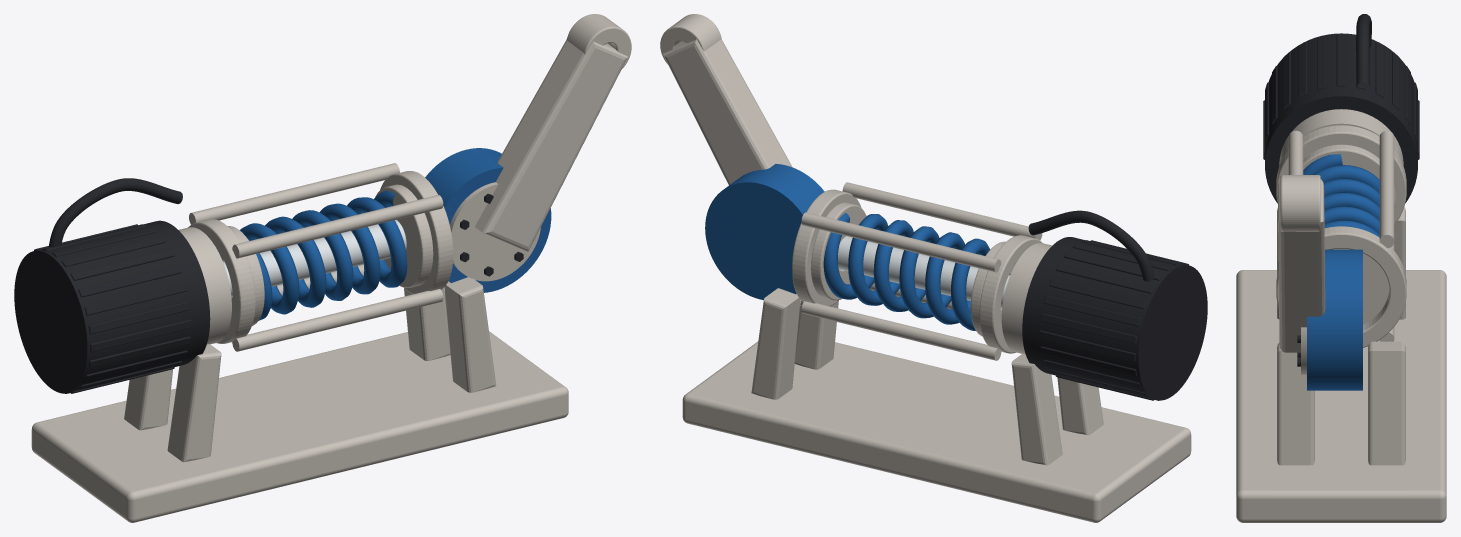
Rendered from anatomy-51.glb.
3 renders of one model, left to right at view 1: azimuth 30°, elevation 25°; view 2: azimuth 150°, elevation 25°; view 3: azimuth 270°, elevation 25°, orthographic. The views are drawn at different scales.
Parts seen in each view (by area): view 1: base, motor, lever, frame, mount, spring, output, spring-seats, coupler, shaft, wires; view 2: base, motor, frame, mount, output, lever, spring, spring-seats, coupler, shaft, wires; view 3: base, motor, mount, frame, lever, output, spring, spring-seats, coupler, wires.
Boxes of the visible parts, x1=… form: base: x1=31, y1=331, x2=568, y2=522; motor: x1=14, y1=220, x2=210, y2=393; lever: x1=475, y1=14, x2=631, y2=251; frame: x1=188, y1=163, x2=453, y2=351; mount: x1=124, y1=277, x2=496, y2=462; spring: x1=240, y1=190, x2=407, y2=320; output: x1=425, y1=148, x2=551, y2=292; spring-seats: x1=216, y1=184, x2=433, y2=325; coupler: x1=178, y1=227, x2=231, y2=344; shaft: x1=223, y1=220, x2=406, y2=296; wires: x1=48, y1=178, x2=182, y2=247; base: x1=682, y1=341, x2=1191, y2=522; motor: x1=1022, y1=237, x2=1207, y2=400; frame: x1=792, y1=182, x2=1042, y2=360; mount: x1=751, y1=288, x2=1103, y2=465; output: x1=705, y1=164, x2=824, y2=299; lever: x1=660, y1=14, x2=792, y2=185; spring: x1=823, y1=213, x2=990, y2=330; spring-seats: x1=811, y1=202, x2=1016, y2=336; coupler: x1=1001, y1=243, x2=1052, y2=353; shaft: x1=838, y1=236, x2=1009, y2=308; wires: x1=1028, y1=210, x2=1153, y2=281; base: x1=1236, y1=270, x2=1446, y2=522; motor: x1=1263, y1=33, x2=1419, y2=203; mount: x1=1277, y1=207, x2=1405, y2=465; frame: x1=1276, y1=125, x2=1406, y2=347; lever: x1=1278, y1=175, x2=1325, y2=352; output: x1=1297, y1=249, x2=1362, y2=390; spring: x1=1303, y1=154, x2=1379, y2=237; spring-seats: x1=1303, y1=144, x2=1395, y2=324; coupler: x1=1279, y1=109, x2=1403, y2=165; wires: x1=1356, y1=14, x2=1371, y2=86.
Bounding box in the file's own units: 2.79 × 1.74 × 0.88.
